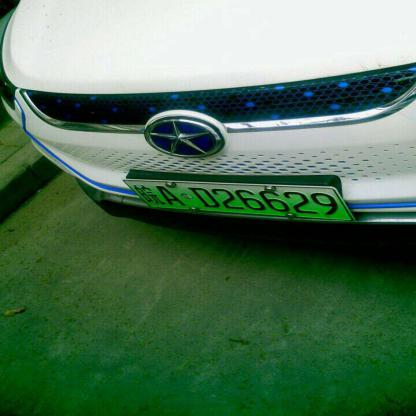lp: (121, 178, 354, 220)
